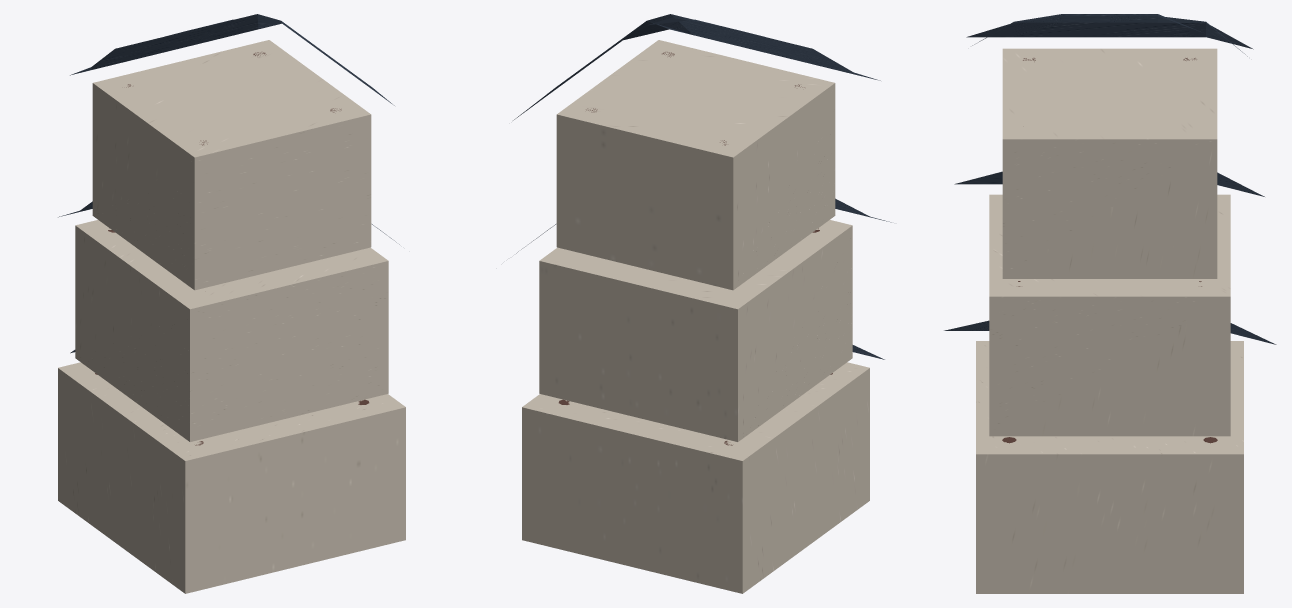
The model's file is shogun_pagoda_watchtower_lod1.glb.
The picture shows the model from 3 angles, left to right: view 1: azimuth 30°, elevation 25°; view 2: azimuth 150°, elevation 25°; view 3: azimuth 270°, elevation 25°; orthographic projection. The views are drawn at different scales.
Parts seen in each view (by area): view 1: shogun_pagoda_watchtower_022, shogun_pagoda_watchtower_000, shogun_pagoda_watchtower_011, shogun_pagoda_watchtower_027; view 2: shogun_pagoda_watchtower_022, shogun_pagoda_watchtower_000, shogun_pagoda_watchtower_011, shogun_pagoda_watchtower_027; view 3: shogun_pagoda_watchtower_022, shogun_pagoda_watchtower_000, shogun_pagoda_watchtower_011, shogun_pagoda_watchtower_027, shogun_pagoda_watchtower_016, shogun_pagoda_watchtower_005.
Part boxes in pixels (x1,y1,x2,y2): shogun_pagoda_watchtower_022: (92, 40, 371, 290); shogun_pagoda_watchtower_000: (58, 362, 405, 593); shogun_pagoda_watchtower_011: (75, 220, 388, 441); shogun_pagoda_watchtower_027: (70, 14, 394, 105); shogun_pagoda_watchtower_022: (556, 40, 835, 290); shogun_pagoda_watchtower_000: (522, 362, 869, 593); shogun_pagoda_watchtower_011: (539, 220, 852, 441); shogun_pagoda_watchtower_027: (513, 14, 880, 120); shogun_pagoda_watchtower_022: (1002, 48, 1217, 278); shogun_pagoda_watchtower_000: (976, 341, 1243, 593); shogun_pagoda_watchtower_011: (989, 194, 1230, 436); shogun_pagoda_watchtower_027: (966, 14, 1253, 56); shogun_pagoda_watchtower_016: (954, 171, 1264, 196); shogun_pagoda_watchtower_005: (944, 320, 1276, 344).
Bounding box in the file's own units: 10 × 16.95 × 10.
3 materials, 3 textured.
